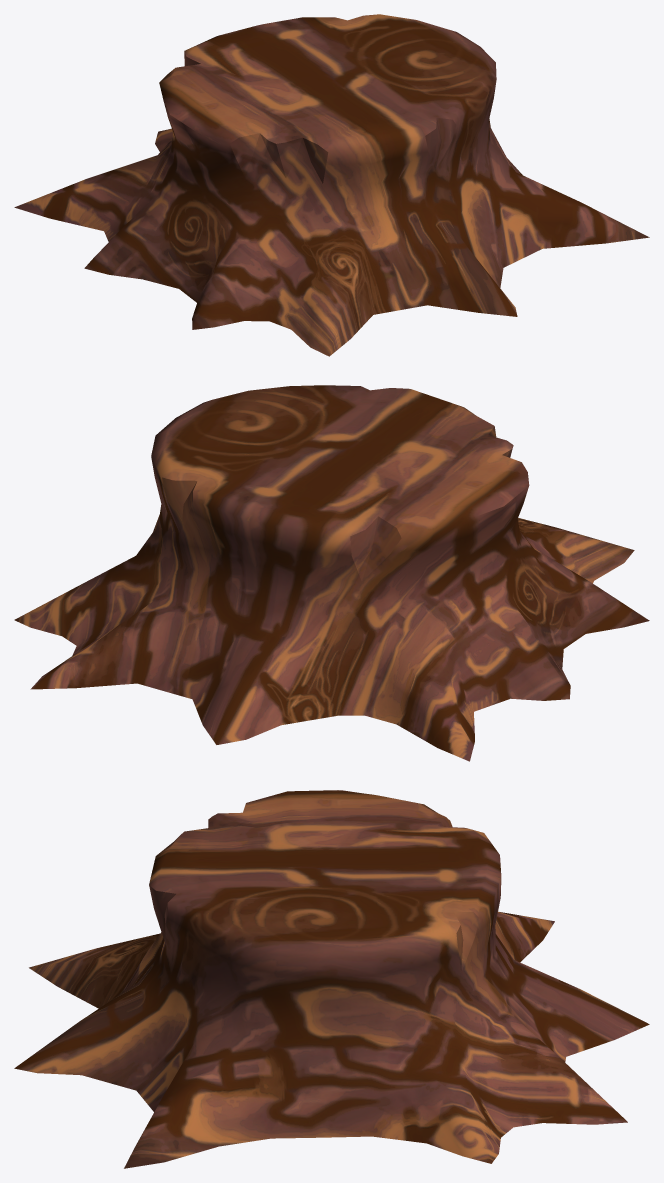
Rendered from stump.fbx.
The picture shows the model from 3 angles, top to bottom: view 1: azimuth 30°, elevation 25°; view 2: azimuth 150°, elevation 25°; view 3: azimuth 270°, elevation 25°; orthographic projection. The views are drawn at different scales.
Visible parts, largest first — view 1: Cylinder; view 2: Cylinder; view 3: Cylinder.
Boxes of the visible parts, <box> form: Cylinder: <box>14,14,649,356</box>; Cylinder: <box>14,385,649,761</box>; Cylinder: <box>14,790,649,1168</box>.
Size of the model in its own units: 191 by 60.76 by 203.
1 material, 1 textured.
